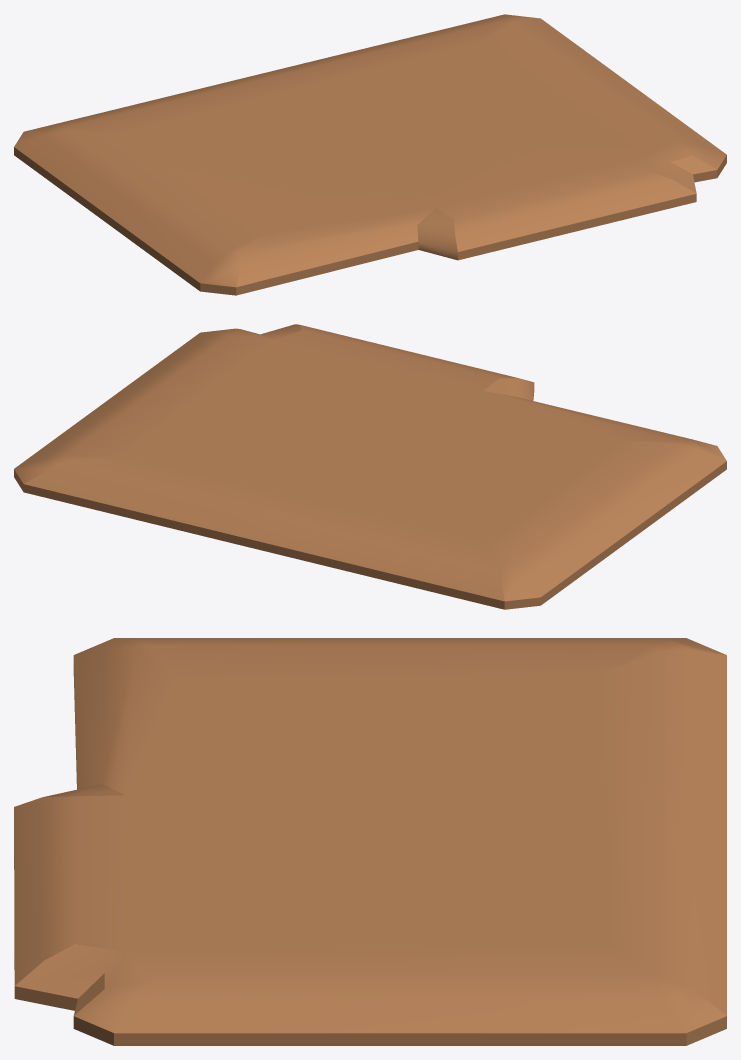
The model's file is SM_Roof_a_01.fbx.
3 renders of one model, top to bottom at view 1: azimuth 30°, elevation 25°; view 2: azimuth 150°, elevation 25°; view 3: azimuth 270°, elevation 25°, orthographic. The views are drawn at different scales.
Visible parts, largest first — view 1: SM_Roof_a_01; view 2: SM_Roof_a_01; view 3: SM_Roof_a_01.
Part boxes in pixels (x1=…): SM_Roof_a_01: x1=14, y1=14, x2=726, y2=295; SM_Roof_a_01: x1=14, y1=324, x2=726, y2=609; SM_Roof_a_01: x1=14, y1=638, x2=726, y2=1045.
Size of the model in its own units: 14.16 by 0.5872 by 10.8.
